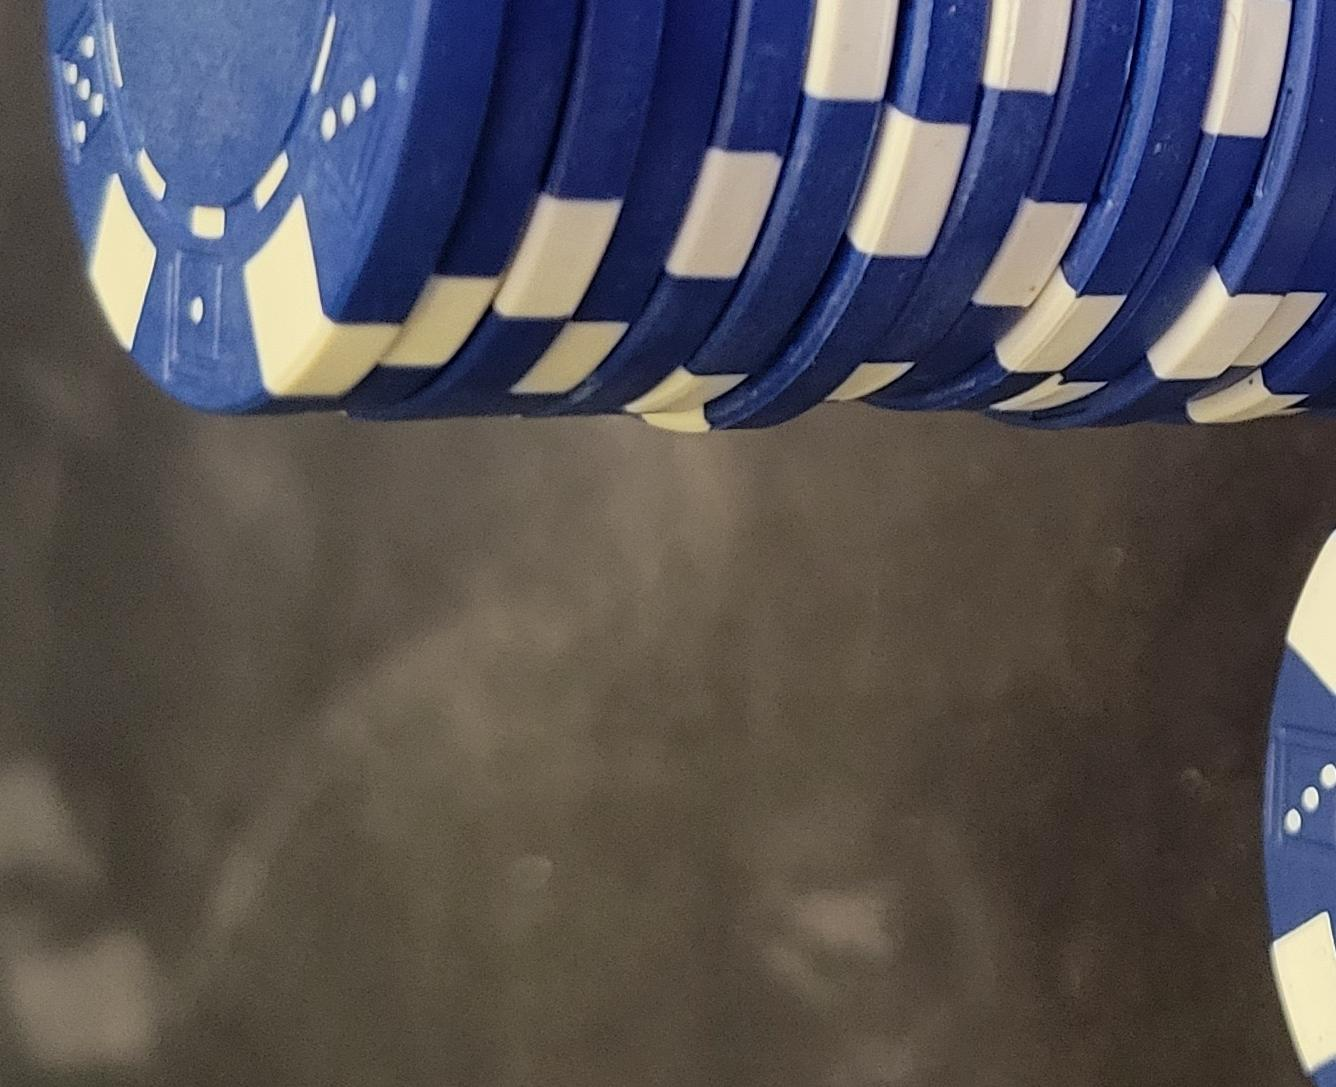Chip: (1, 418, 855, 1087)
